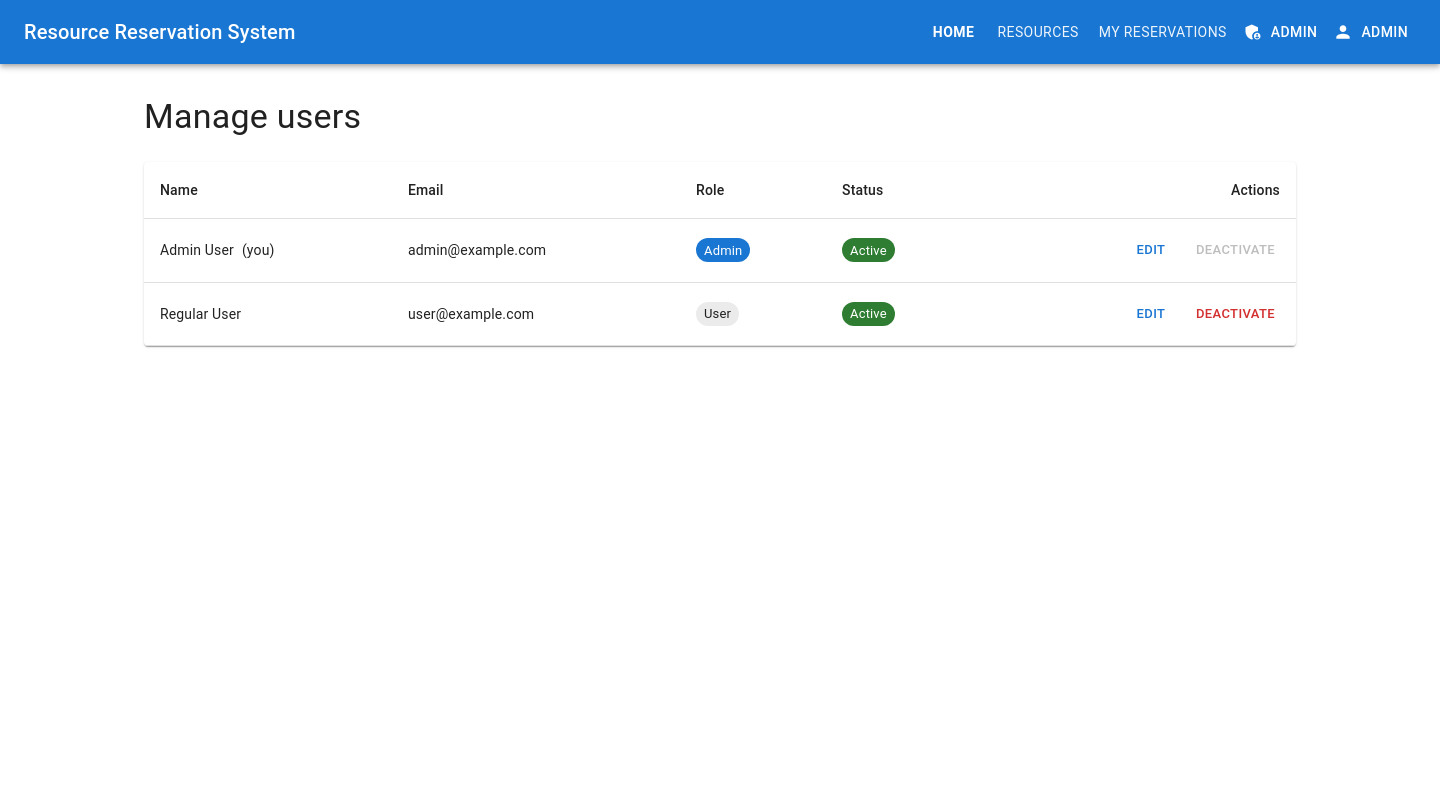
Test case: AdminUsersPage › opens edit dialog for another user
Expected: the text "Regular User" is shown, [144,282,392,346]
Click the button "Edit" in the row of "Regular".
click(1151, 314)  # box [1119,299,1183,330]
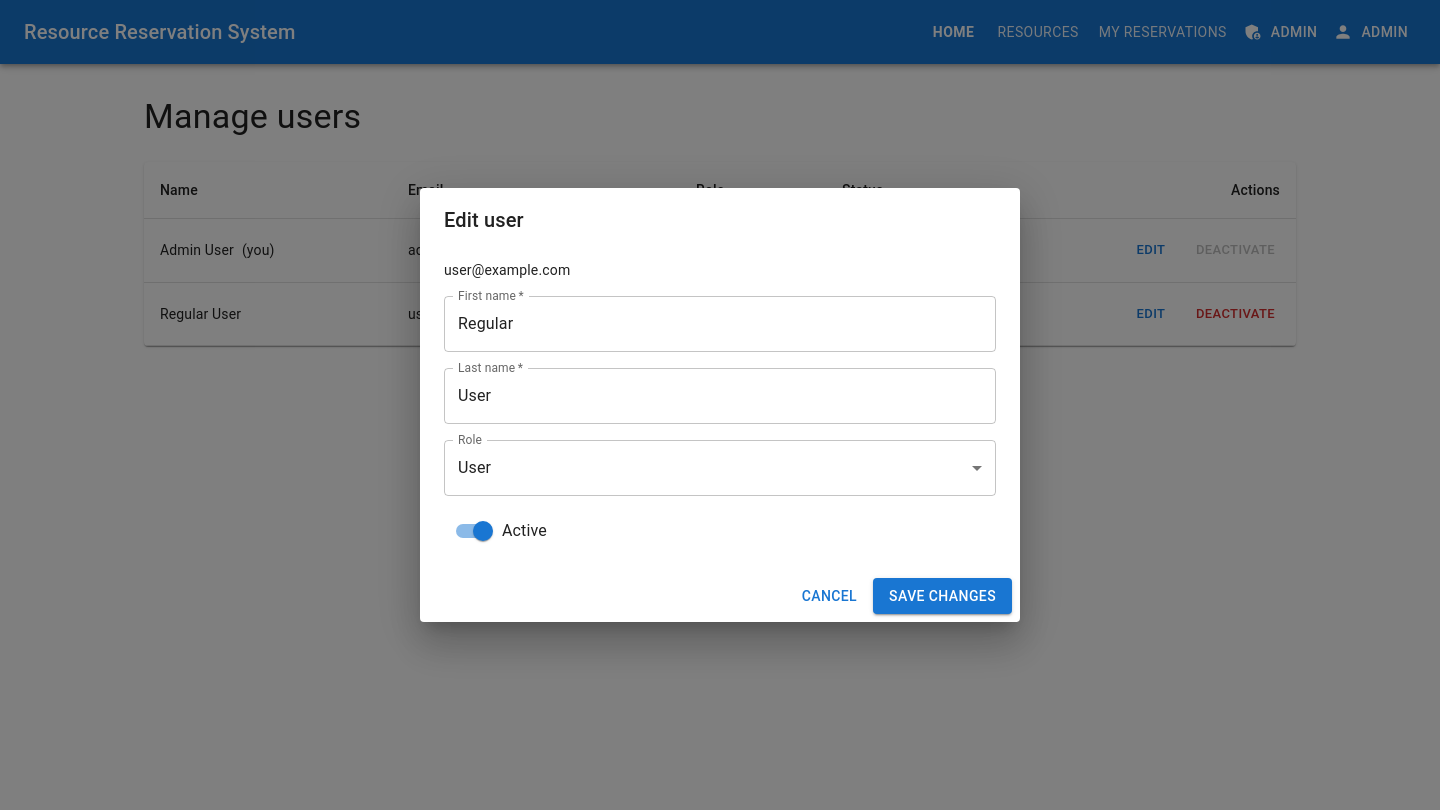
Expected: the heading "Edit user" is shown, [444,208,524,232]
